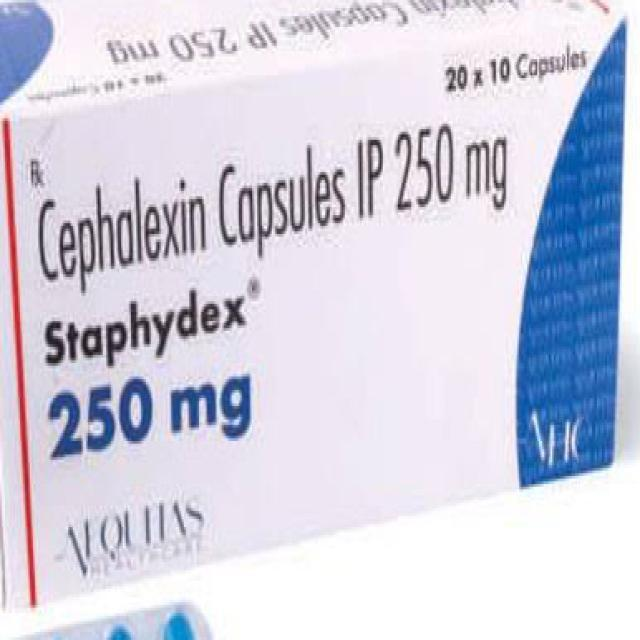drug-name: (35, 282, 248, 388)
